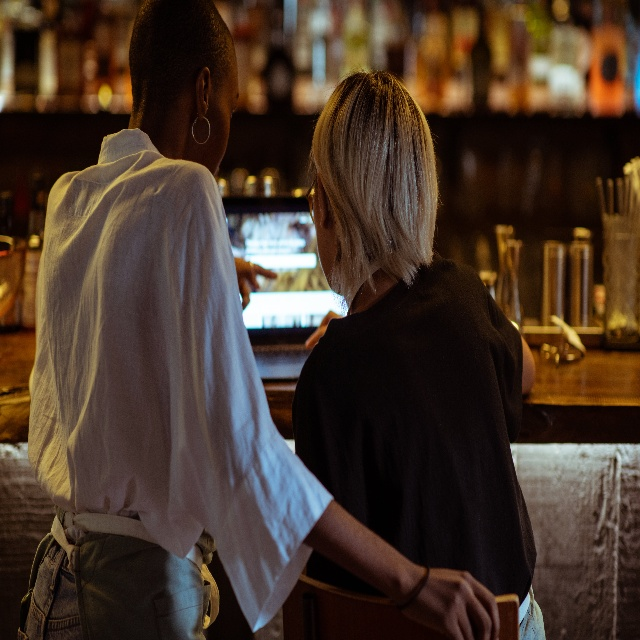Sin_guantes: (401, 559, 501, 638)
